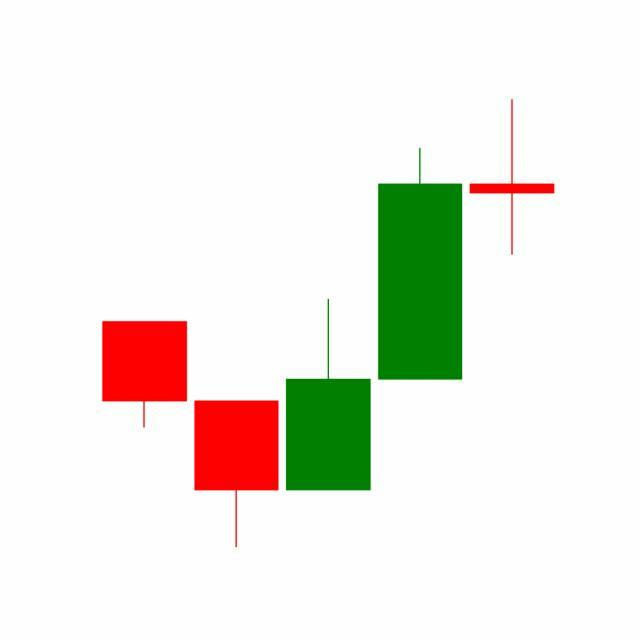Spinning Top: (466, 98, 559, 257)
